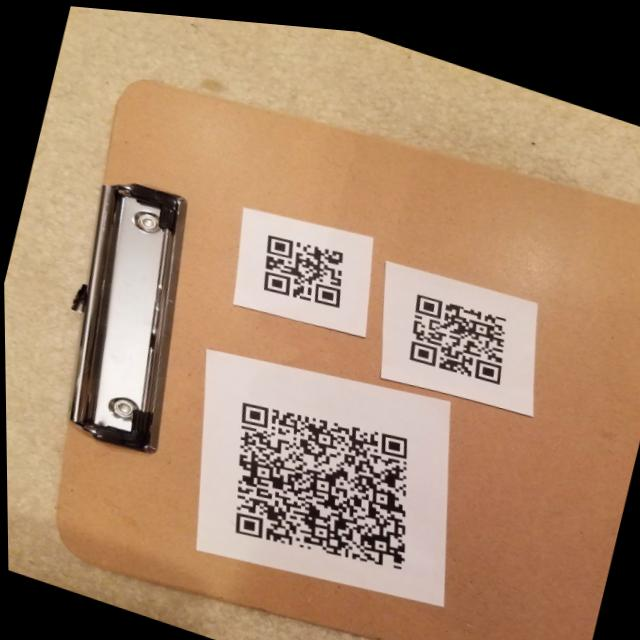QR_CODE: (195, 359, 452, 595), (378, 261, 545, 399), (239, 208, 361, 316)
